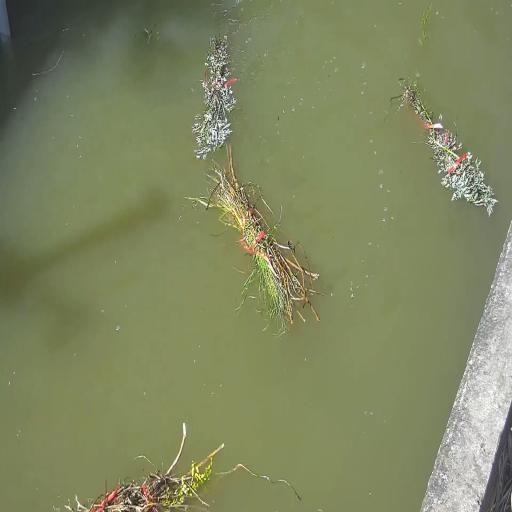twig: (189, 146, 319, 327), (400, 83, 498, 216), (89, 423, 224, 512), (192, 35, 237, 159), (205, 41, 227, 77)
